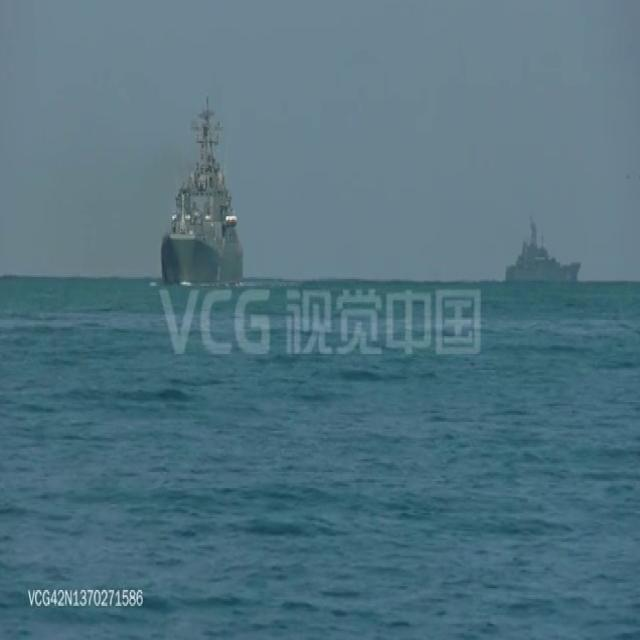navalvessels: (160, 98, 249, 288), (503, 210, 580, 286)
